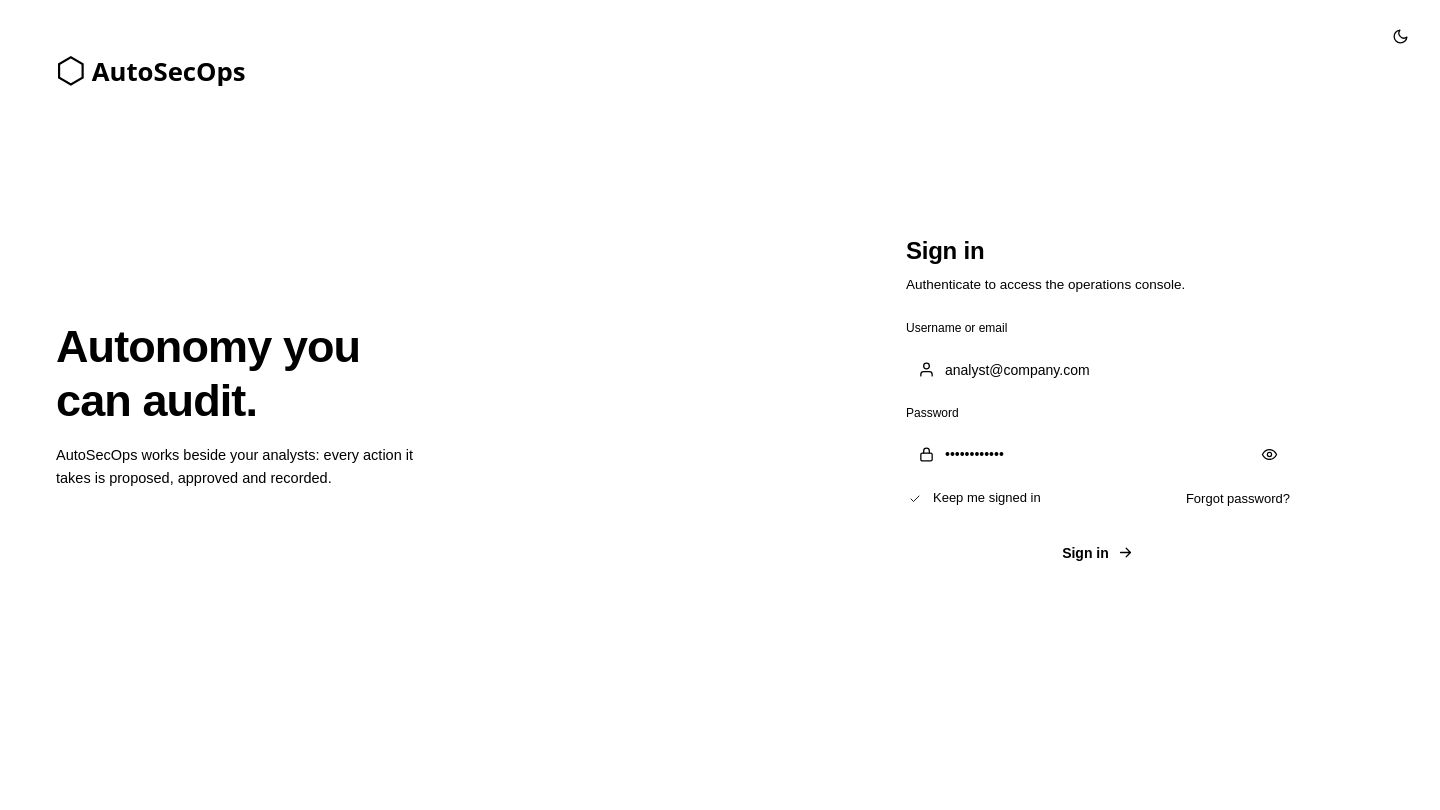
Scenario: LoginScreen › sign-in errors › blames the backend, not the credentials, on a network error
Type "admin" into the field labelled "Username or email" at (1098, 370), box left=906, top=351, right=1290, bottom=389
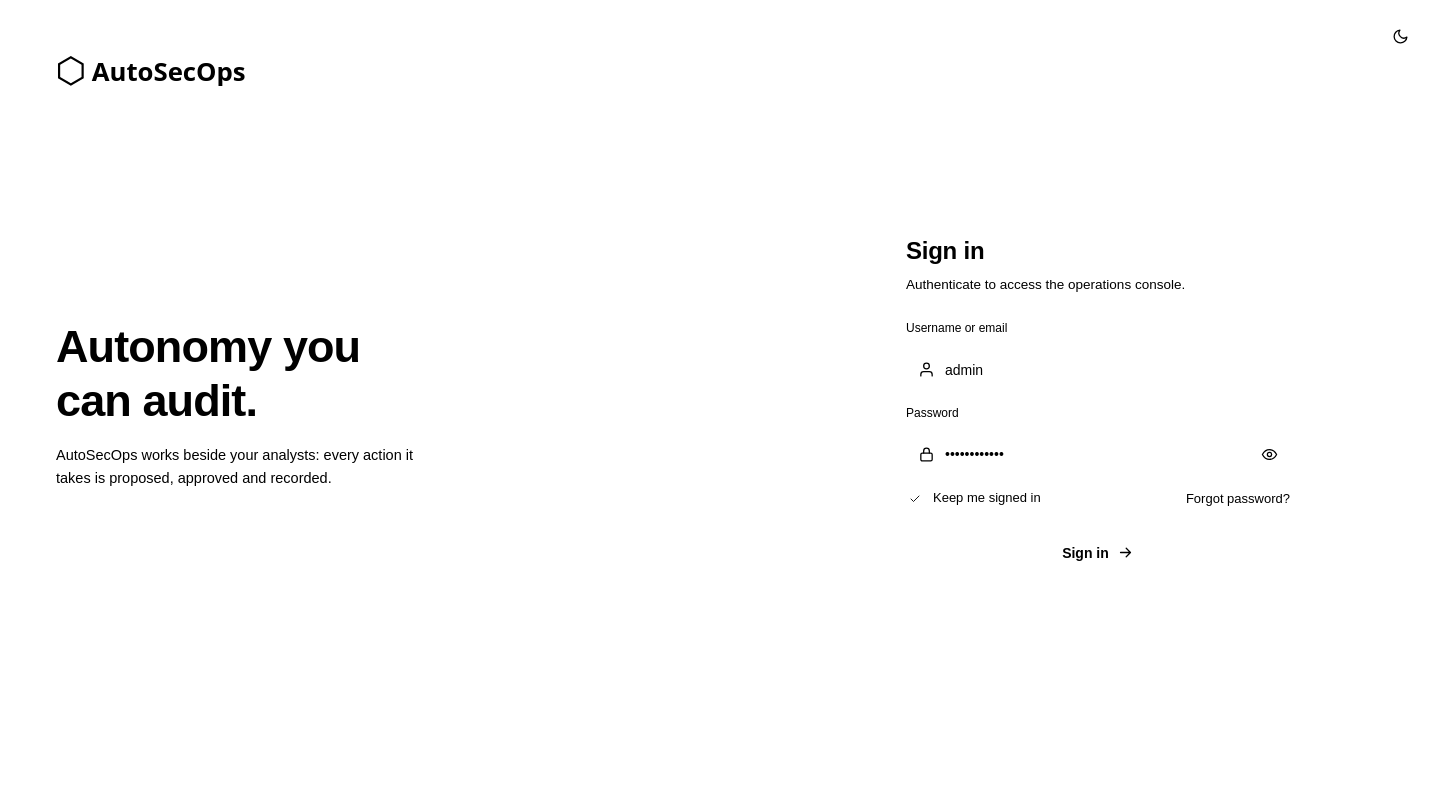
Type "pw" into the password field labelled "Password" at (1098, 454), box left=906, top=435, right=1290, bottom=473
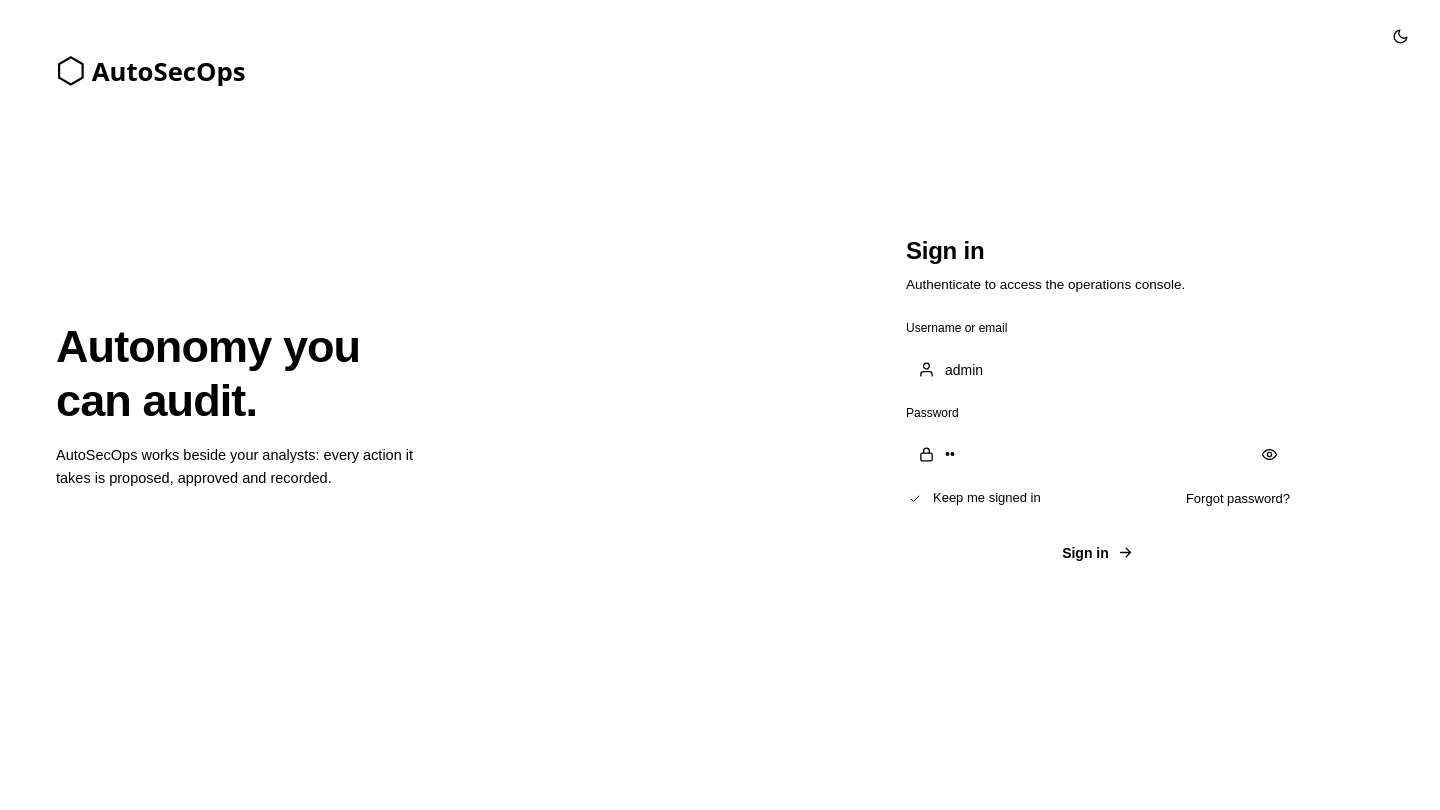
Click the button "Sign in" at (1098, 553), box left=906, top=530, right=1290, bottom=576
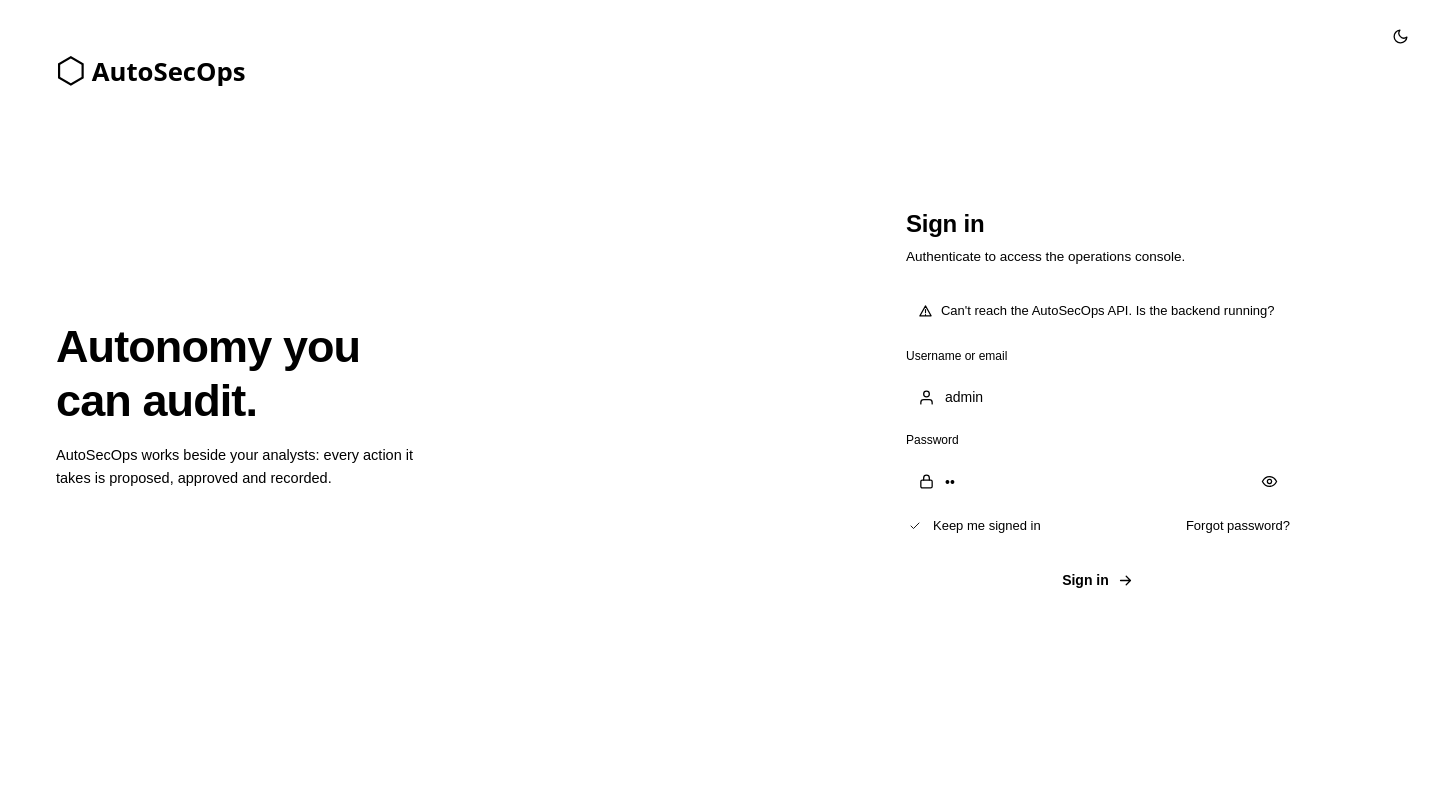
Expected: the message reads "Can't reach the AutoSecOps API. Is the backend running?", left=941, top=303, right=1274, bottom=318
